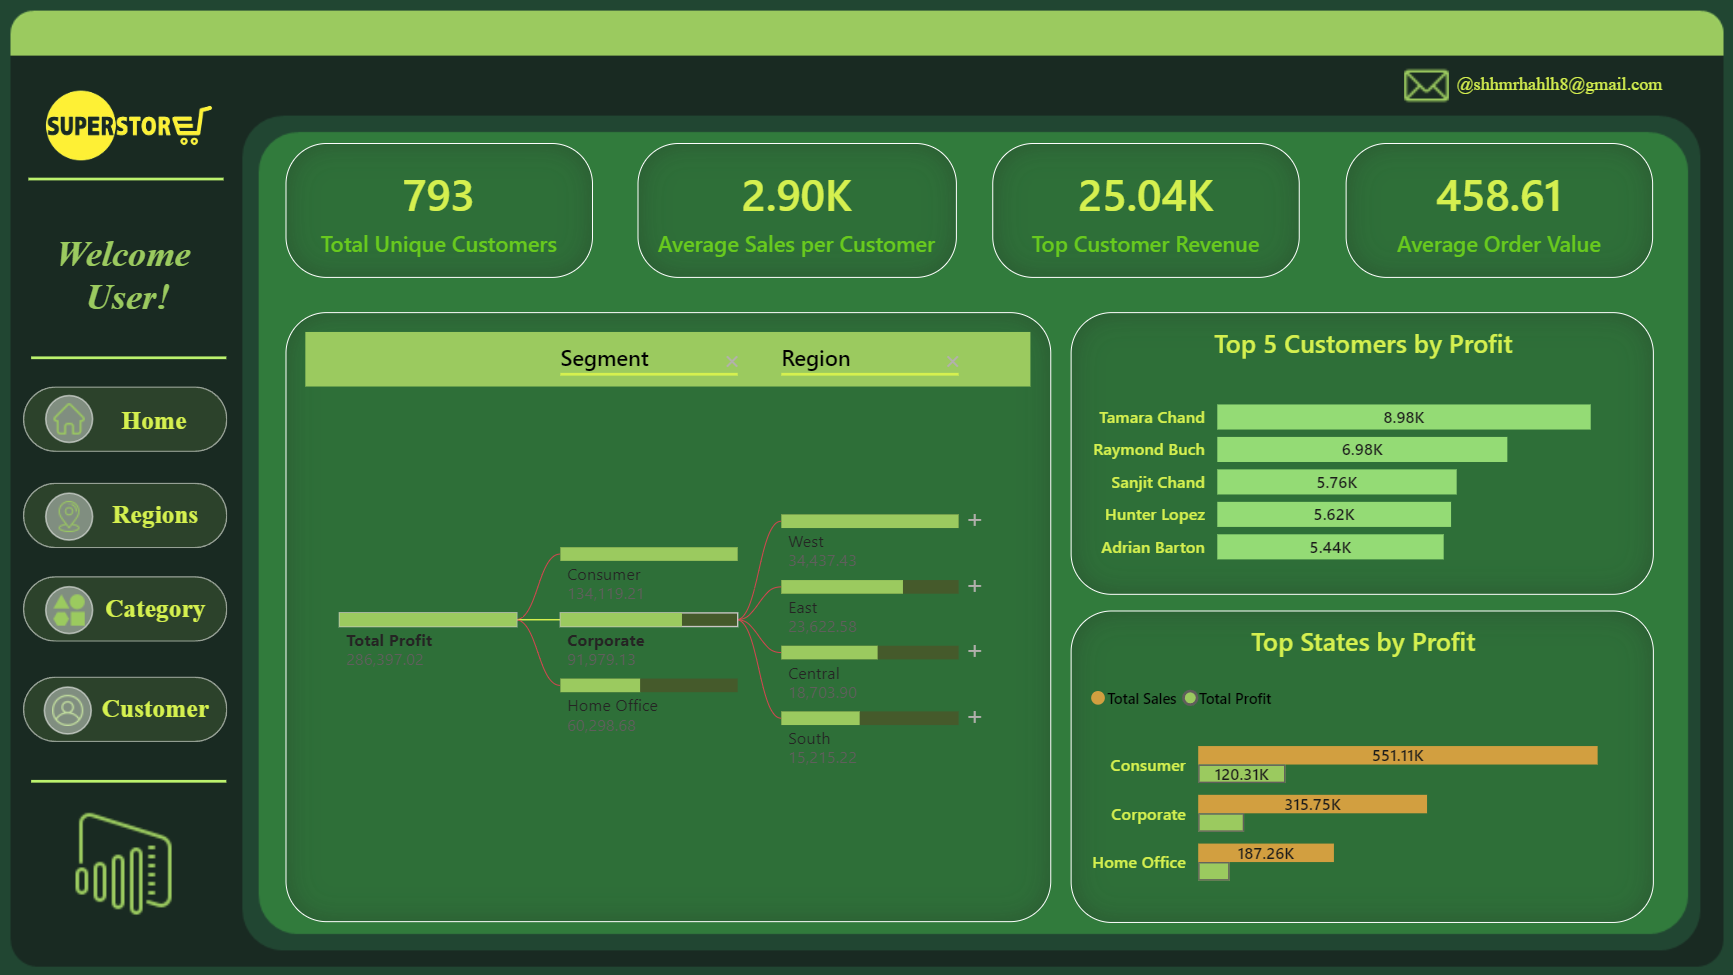

The page's visual inventory and layout, read from the dashboard file:
{"tool":"powerbi","page":{"name":"Customer","canvas":[1280,720],"ordinal":3},"visuals":[{"type":"shape","box":[24.8,107.6,143.1,46.8],"z":0},{"type":"shape","box":[27.6,549.3,143.1,46.8],"z":1000},{"type":"shape","box":[27.6,238.8,143.1,46.8],"z":2000},{"type":"image","box":[13.8,27.6,171.1,127],"z":3000},{"type":"textbox","box":[23.5,165.6,150,75.7],"z":4000},{"type":"shape","box":[21.6,283.7,150,48.2],"z":5000},{"type":"shape","box":[21.6,353.9,150,48.2],"z":6000},{"type":"shape","box":[21.6,422.7,150,48.2],"z":7000},{"type":"shape","box":[21.6,495.6,150,48.2],"z":8000},{"type":"card","fields":{"Values":["M_ta1.Top Customer Revenue"]},"box":[732.1,104.6,225.7,99.1],"z":9000},{"type":"card","fields":{"Values":["Count(Dim_Customer.Customer_ID)"]},"box":[213.3,104.6,225.7,99.1],"z":10000},{"type":"card","fields":{"Values":["M_ta1.Average Sales per Customer"]},"box":[472,104.6,234,99.1],"z":11000},{"type":"card","fields":{"Values":["M_ta1.Average Order Value"]},"box":[990.9,104.6,225.7,99.1],"z":12000},{"type":"decompositionTreeVisual","title":"Total Sales & Profit through Years","fields":{"Analyze":["Sum(Fact_Sales.Profit)"],"ExplainBy":["Dim_Customer.Segment","Dim_Location.Region","Dim_Product.Category"]},"box":[213.9,229.1,561.7,447.2],"z":13000},{"type":"image","box":[37.4,284.1,35.8,45.4],"z":14000},{"type":"image","box":[37.4,355.6,35.8,45.4],"z":15000},{"type":"image","box":[37.4,424.4,35.8,45.4],"z":16000},{"type":"image","box":[36.8,498.4,35.8,45.4],"z":17000},{"type":"textbox","box":[72.6,291.9,89.5,33],"z":18000},{"type":"textbox","box":[73.9,362.1,89.5,33],"z":19000},{"type":"textbox","box":[73.9,430.9,89.5,33],"z":20000},{"type":"textbox","box":[73.9,503.9,89.5,33],"z":21000},{"type":"image","box":[1030.8,46.8,39.9,33],"z":22000},{"type":"textbox","box":[1060.8,46.2,174.8,33],"z":23000},{"type":"image","box":[26.2,590.7,139,85.3],"z":24000},{"type":"barChart","title":"Top 5 Customers by Profit","fields":{"Category":["Dim_Customer.Customer_Name"],"Y":["Sum(Fact_Sales.Profit)"]},"box":[789.4,229.1,427.8,207],"z":25000},{"type":"clusteredBarChart","title":"Top States by Profit","fields":{"Category":["Dim_Customer.Segment"],"Y":["Sum(Fact_Sales.Sales)","Sum(Fact_Sales.Profit)"]},"box":[789.4,447.2,427.8,229.1],"z":26000}]}

Visuals, with their boxes in screenshot pixels (x1, y1, x2, y2), scaled from the page's 1280x720 canvas onto the 1733x975 screenshot:
shape: x1=34, y1=146, x2=227, y2=209
shape: x1=37, y1=744, x2=231, y2=807
shape: x1=37, y1=323, x2=231, y2=387
image: x1=19, y1=37, x2=250, y2=209
textbox: x1=32, y1=224, x2=235, y2=327
shape: x1=29, y1=384, x2=232, y2=449
shape: x1=29, y1=479, x2=232, y2=545
shape: x1=29, y1=572, x2=232, y2=638
shape: x1=29, y1=671, x2=232, y2=736
card - M_ta1.Top Customer Revenue: x1=991, y1=142, x2=1297, y2=276
card - Count(Dim_Customer.Customer_ID): x1=289, y1=142, x2=594, y2=276
card - M_ta1.Average Sales per Customer: x1=639, y1=142, x2=956, y2=276
card - M_ta1.Average Order Value: x1=1342, y1=142, x2=1647, y2=276
"Total Sales & Profit through Years" decompositionTreeVisual: x1=290, y1=310, x2=1050, y2=916
image: x1=51, y1=385, x2=99, y2=446
image: x1=51, y1=482, x2=99, y2=543
image: x1=51, y1=575, x2=99, y2=636
image: x1=50, y1=675, x2=98, y2=736
textbox: x1=98, y1=395, x2=219, y2=440
textbox: x1=100, y1=490, x2=221, y2=535
textbox: x1=100, y1=584, x2=221, y2=628
textbox: x1=100, y1=682, x2=221, y2=727
image: x1=1396, y1=63, x2=1450, y2=108
textbox: x1=1436, y1=63, x2=1673, y2=107
image: x1=35, y1=800, x2=224, y2=915
"Top 5 Customers by Profit" barChart: x1=1069, y1=310, x2=1648, y2=591
"Top States by Profit" clusteredBarChart: x1=1069, y1=606, x2=1648, y2=916
